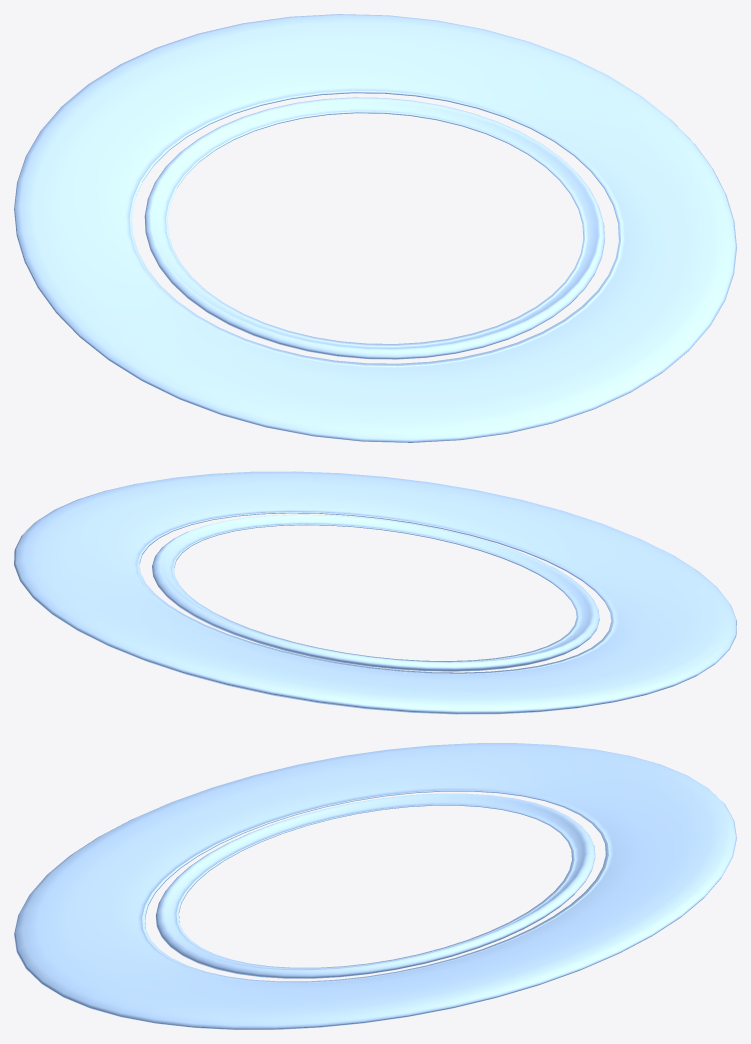
File: Planet_Acc_Ring2.fbx
3 renders of one model, top to bottom at view 1: azimuth 30°, elevation 25°; view 2: azimuth 150°, elevation 25°; view 3: azimuth 270°, elevation 25°, orthographic. The views are drawn at different scales.
Parts seen in each view (by area): view 1: Ring2; view 2: Ring2; view 3: Ring2.
Boxes of the visible parts, x1,y1,x2,y2 form: Ring2: (14,14,736,442); Ring2: (14,471,736,714); Ring2: (14,743,736,1029).
Size of the model in its own units: 4.58 by 0.8372 by 4.75.
